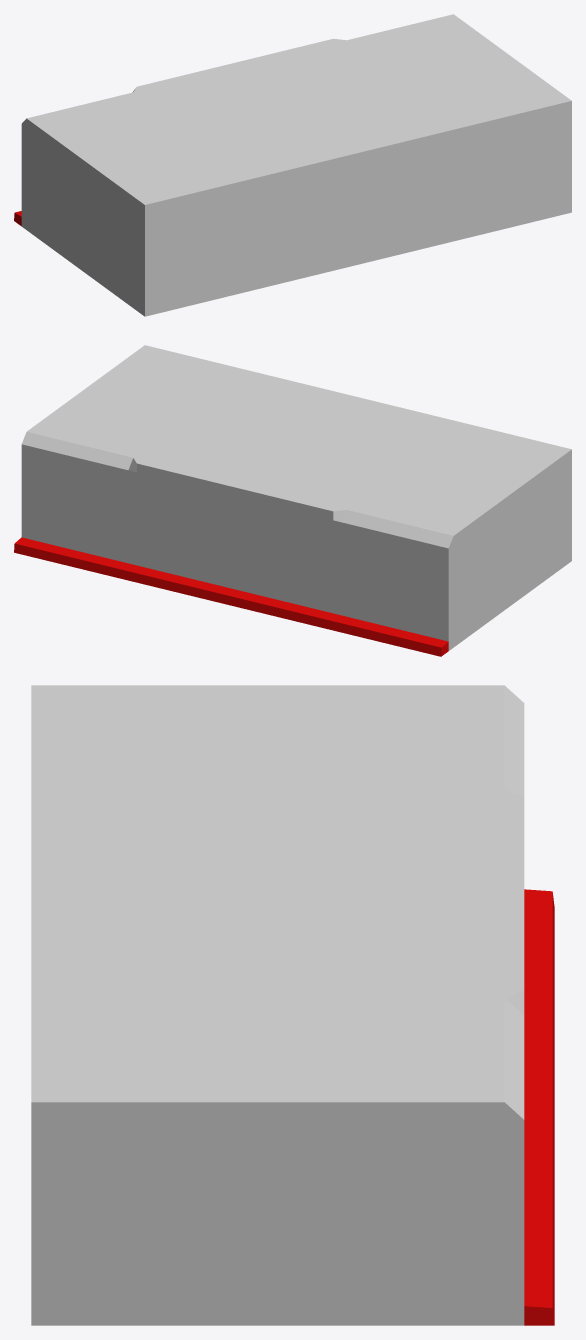
Rendered from SM_PlatformJoin.fbx.
3 views of the same model, one above another, from view 1: azimuth 30°, elevation 25°; view 2: azimuth 150°, elevation 25°; view 3: azimuth 270°, elevation 25° (orthographic). The views are drawn at different scales.
Parts seen in each view (by area): view 1: SM_Platform_Join; view 2: SM_Platform_Join, SM_Platform_JoinTrim; view 3: SM_Platform_Join, SM_Platform_JoinTrim.
Boxes of the visible parts, box(x1,y1,x2,y2) form: SM_Platform_Join: box(21, 14, 571, 316); SM_Platform_Join: box(21, 345, 571, 650); SM_Platform_JoinTrim: box(14, 537, 448, 656); SM_Platform_Join: box(31, 685, 524, 1325); SM_Platform_JoinTrim: box(524, 889, 554, 1325).
Bounding box in the file's own units: 12 × 3 × 6.37.
